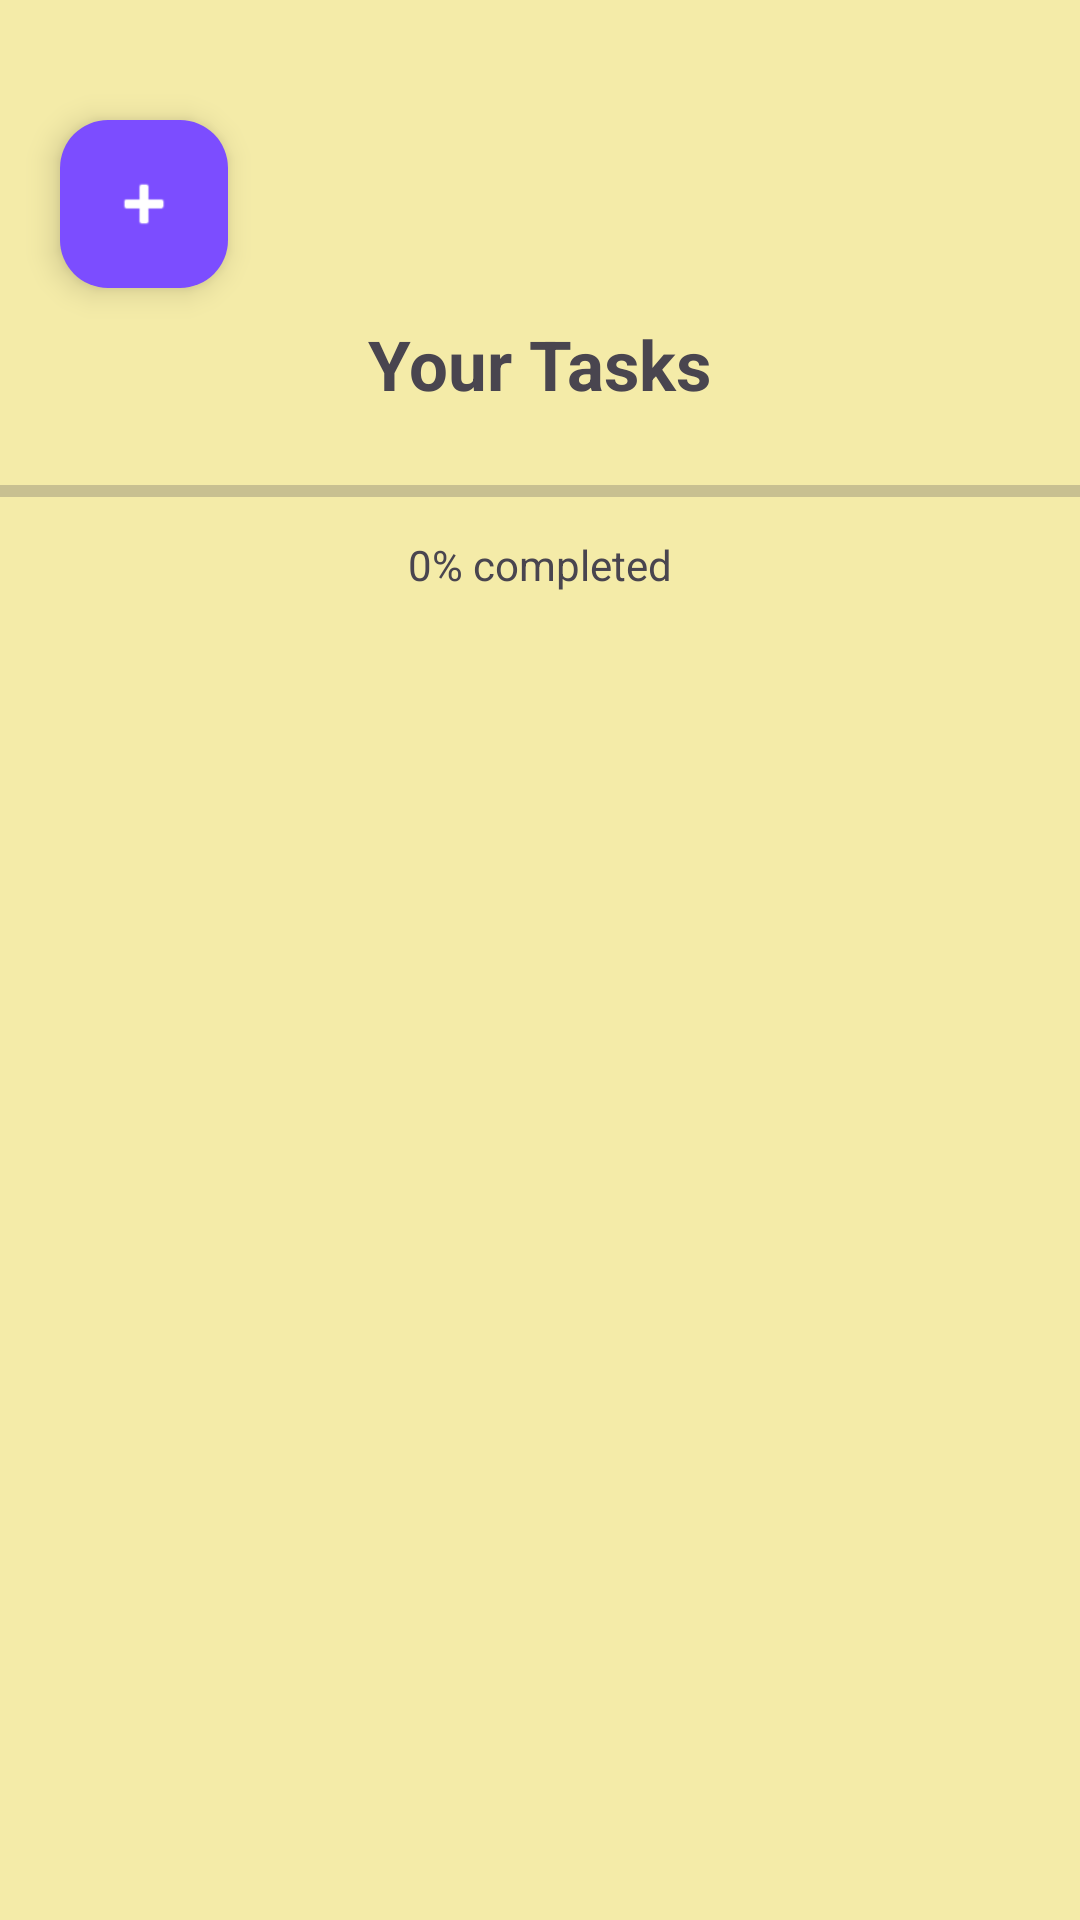

Screen size 1080px x 1920px. Icon name, then its box in pixels as box=[x1, y1, x2, y2]:
Add Task: box=[60, 120, 228, 288]
